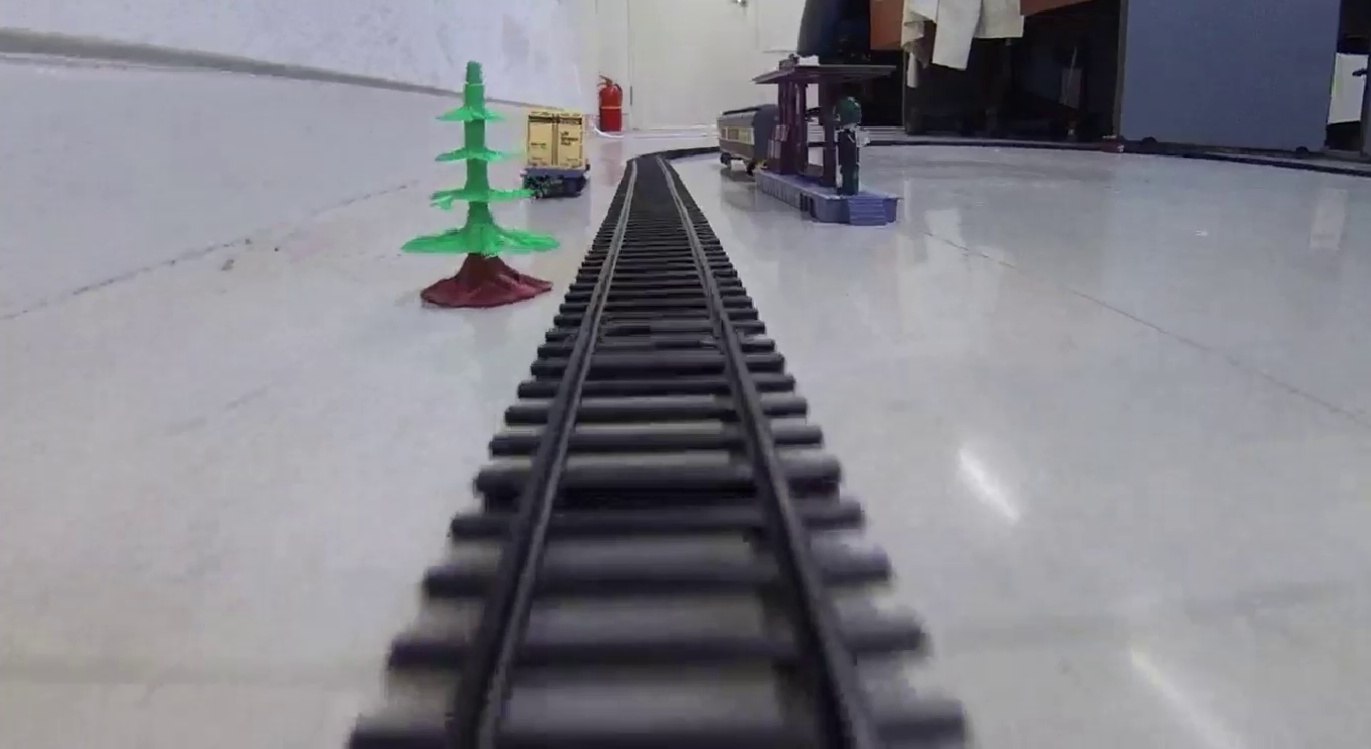tree: (401, 63, 557, 307)
